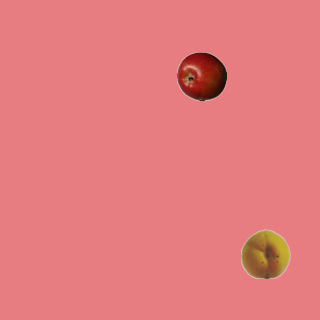Apple Braeburn: (176, 51, 226, 101)
Peach 2: (240, 228, 290, 278)
